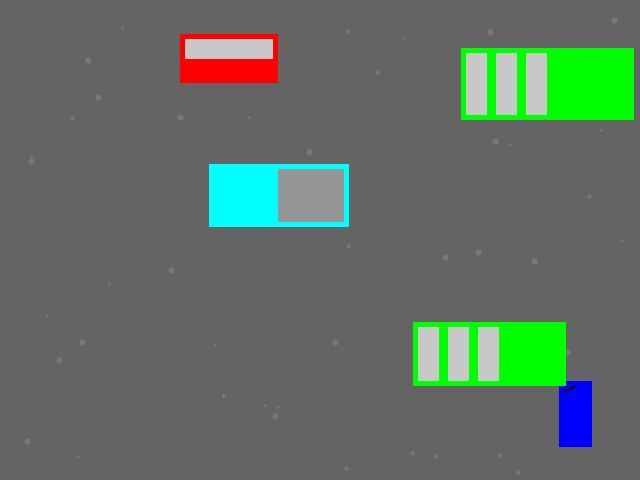bus: (461, 48, 633, 119), (413, 322, 565, 385)
car: (180, 34, 277, 82)
motorcycle: (559, 381, 591, 446)
truck: (209, 164, 348, 226)
